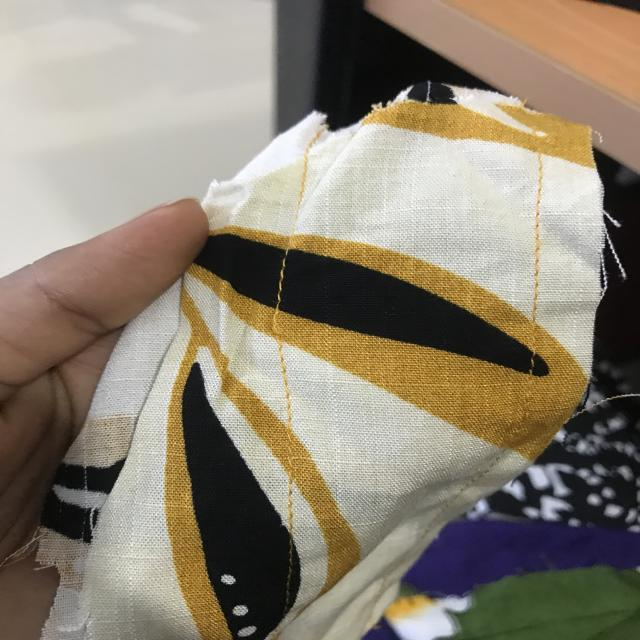skip: (258, 300, 307, 348)
